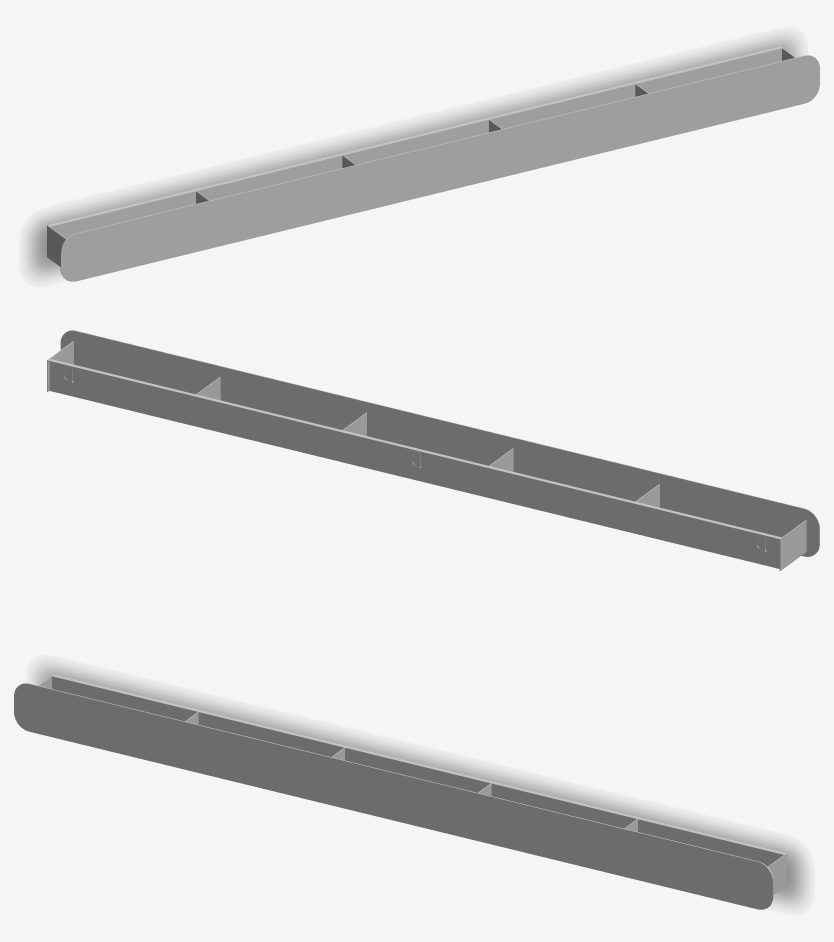
File: radius-mono.d071294a07.ar.glb
3 views of the same model, one above another, from view 1: azimuth 30°, elevation 25°; view 2: azimuth 150°, elevation 25°; view 3: azimuth 330°, elevation 25° (orthographic).
Visible parts, largest first — view 1: NAUO1, object 2; view 2: NAUO1; view 3: NAUO1, object 2.
Boxes of the visible parts, <box> form: NAUO1: <box>47,46,819,281</box>; object 2: <box>29,38,798,275</box>; NAUO1: <box>47,330,819,570</box>; NAUO1: <box>14,674,786,909</box>; object 2: <box>35,666,804,903</box>.
Size of the model in its own units: 1.58 by 0.17 by 0.093.
Materials: 2 (1 with a texture image).
